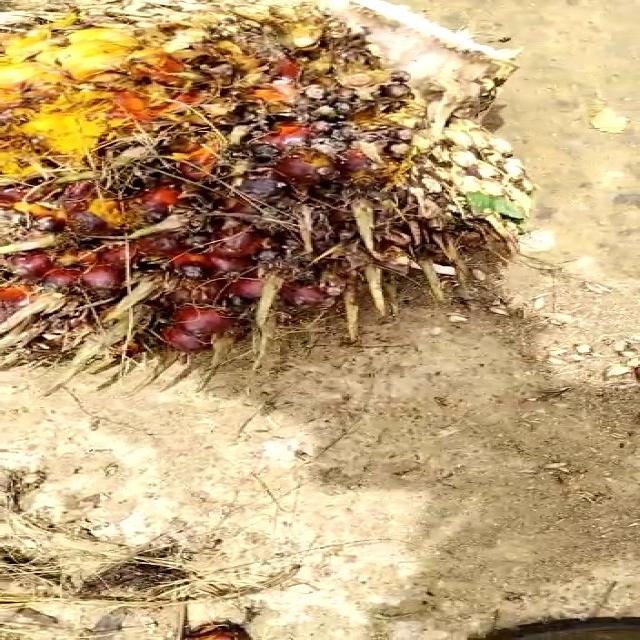palm oil: (0, 0, 525, 383)
